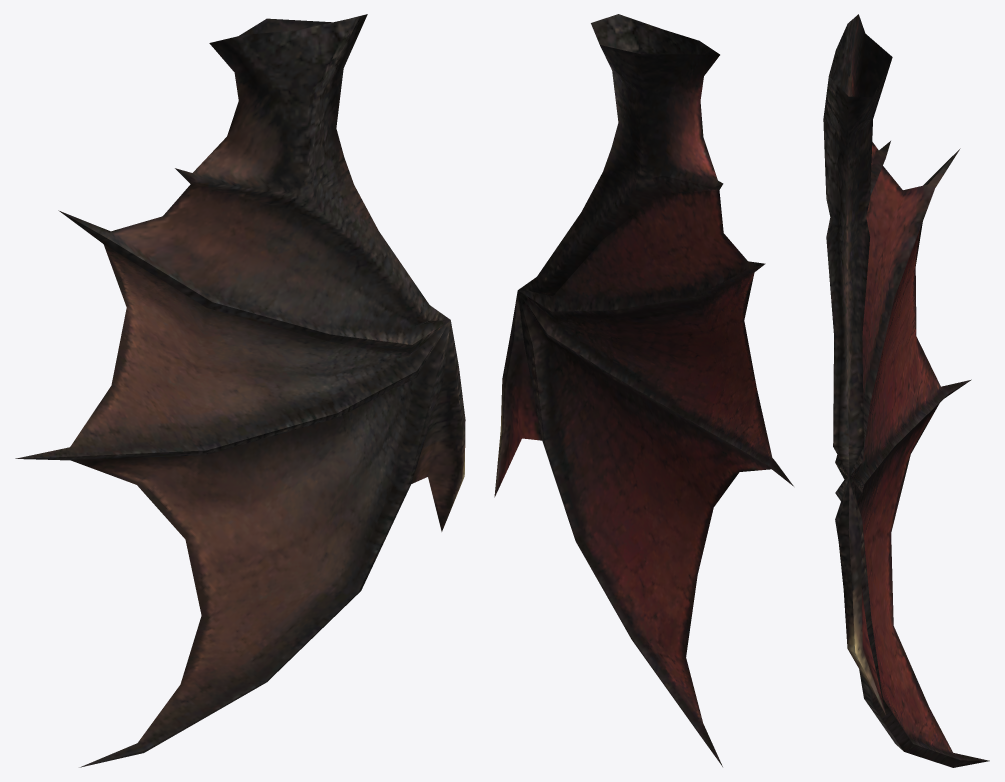
The model's file is right_wing.obj.
3 renders of one model, left to right at view 1: azimuth 30°, elevation 25°; view 2: azimuth 150°, elevation 25°; view 3: azimuth 270°, elevation 25°, orthographic. The views are drawn at different scales.
Parts seen in each view (by area): view 1: objMatMesh4; view 2: objMatMesh4; view 3: objMatMesh4.
Boxes of the visible parts, x1,y1,x2,y2 form: objMatMesh4: (15, 14, 465, 767); objMatMesh4: (494, 14, 793, 766); objMatMesh4: (823, 14, 989, 767).
Size of the model in its own units: 11.55 by 21.31 by 4.11.
Materials: 1 (1 with a texture image).
